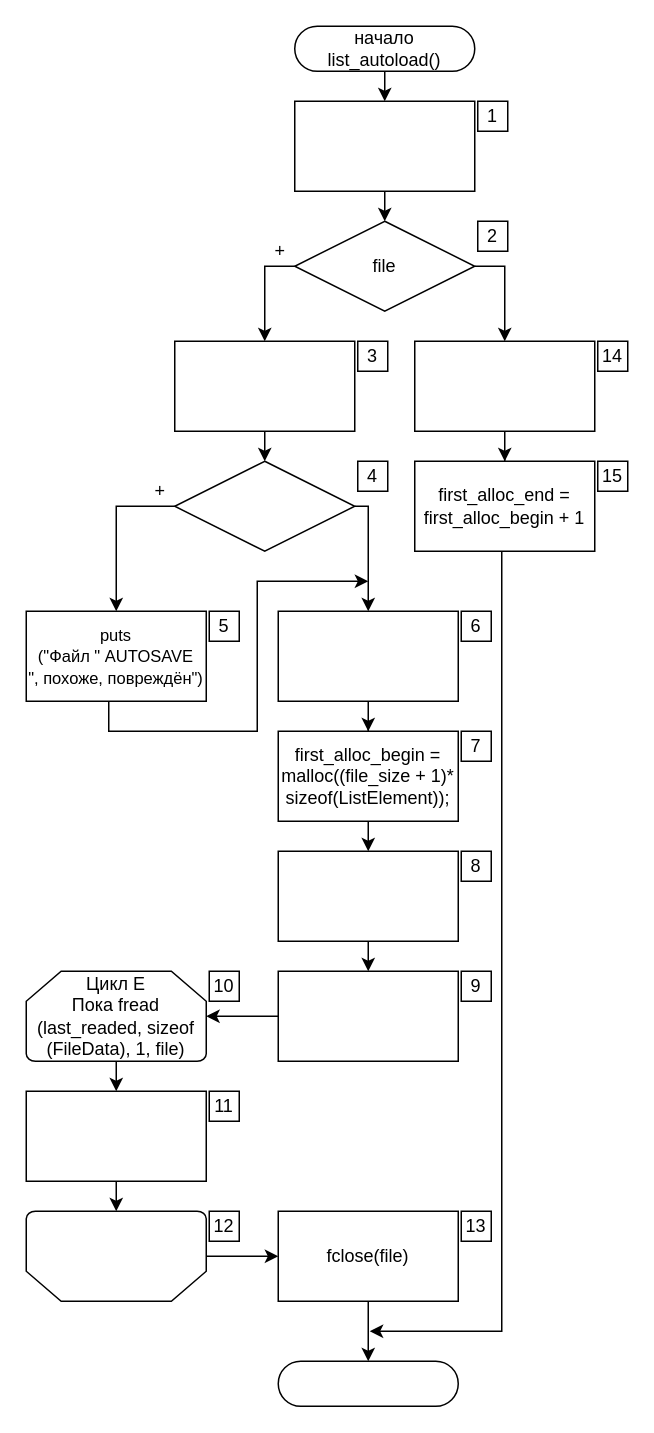
The diagram is 654 pixels wide and 1433 high, and some of its shapes have lost their labels. Each missing label, with the centre of its shape:
FILE * file = fopen (AUTOSAVE, "rb"): point 384,145
file_size % sizeof(FileData) != 0: point 264,505
file_size /= sizeof(FileData);: point 367,655
first_alloc_begin = last_readed = new(ListElement);: point 504,385
first_alloc_end = first_alloc_begin + file_size;: point 367,895
last_readed = first_alloc_begin: point 367,1015
list_add(last_readed); last_readed++: point 115,1135
size_t file_size = get_file_size(file): point 264,385
конец: point 367,1383
Цикл E: point 115,1255
